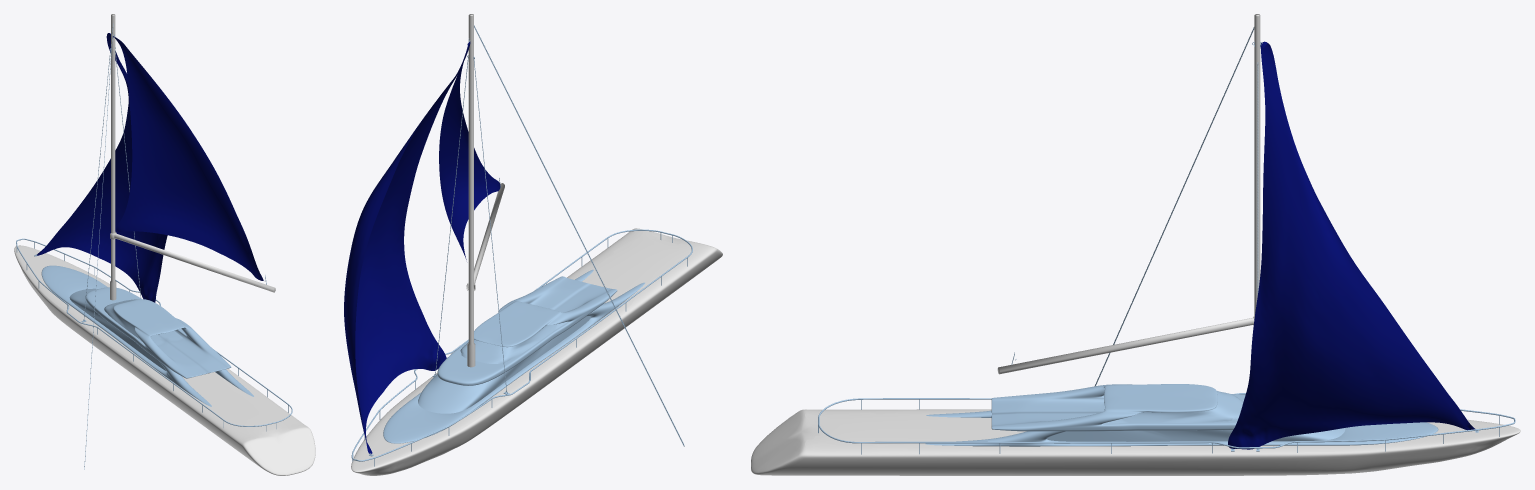
The model's file is yacht2.5.fbx.
The picture shows the model from 3 angles, left to right: view 1: azimuth 30°, elevation 25°; view 2: azimuth 150°, elevation 25°; view 3: azimuth 270°, elevation 25°; orthographic projection. The views are drawn at different scales.
Visible parts, largest first — view 1: Torus, Mesh, Mesh.001, Mesh.007, Mesh.004, Curve.003, Mesh.002, Curve, Curve.001, Mesh.003; view 2: Mesh.007, Mesh, Mesh.001, Torus, Mesh.002, Mesh.004, Curve.003, Mesh.003, Curve, Curve.001; view 3: Mesh.007, Mesh, Mesh.001, Mesh.002, Curve.003, Torus, Mesh.004, Mesh.003.
Boxes of the visible parts, x1,y1,x2,y2 form: Torus: (110,36,275,292); Mesh: (14,245,315,475); Mesh.001: (41,265,253,406); Mesh.007: (36,33,167,302); Mesh.004: (110,14,116,300); Curve.003: (16,238,292,426); Mesh.002: (69,288,165,370); Curve: (83,49,140,319); Curve.001: (84,23,113,469); Mesh.003: (104,299,141,341); Mesh.007: (344,42,470,454); Mesh: (351,228,722,475); Mesh.001: (383,269,644,443); Torus: (439,62,504,291); Mesh.002: (418,316,590,413); Mesh.004: (467,14,475,367); Curve.003: (351,229,692,461); Mesh.003: (460,321,567,363); Curve: (435,56,506,391); Curve.001: (474,25,684,446); Mesh.007: (1228,41,1475,449); Mesh: (751,409,1520,475); Mesh.001: (925,384,1438,446); Mesh.002: (1046,428,1345,441); Curve.003: (818,393,1515,448); Torus: (997,316,1254,374); Mesh.004: (1254,14,1260,317); Mesh.003: (1104,391,1243,423).
Size of the model in its own units: 2137 by 4530 by 6031.
